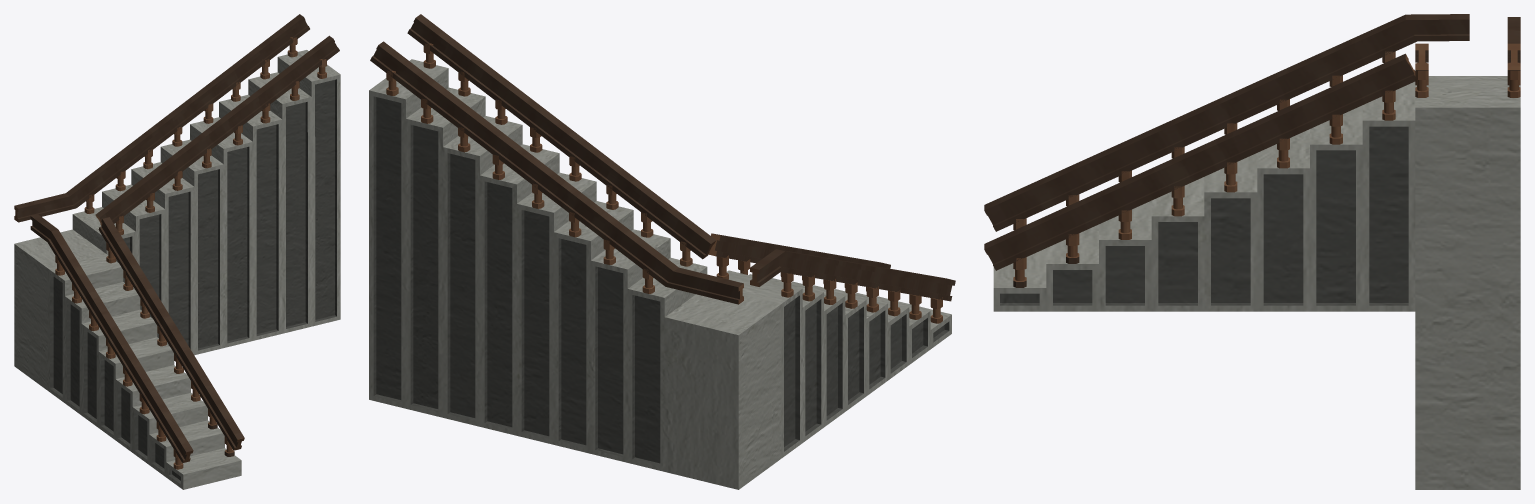
File: Stairs_UV.fbx
3 renders of one model, left to right at view 1: azimuth 30°, elevation 25°; view 2: azimuth 150°, elevation 25°; view 3: azimuth 270°, elevation 25°, orthographic. The views are drawn at different scales.
Visible parts, largest first — view 1: Stairs:polySurface7, Stairs:polySurface6, Stairs:pCube9, Stairs:pCube8, Stairs:pCube7, Stairs:pCube6; view 2: Stairs:polySurface7, Stairs:polySurface6, Stairs:pCube9, Stairs:pCube8, Stairs:pCube7, Stairs:pCube6; view 3: Stairs:polySurface6, Stairs:polySurface7, Stairs:pCube7, Stairs:pCube6, Stairs:pCube9.
Boxes of the visible parts, x1,y1,x2,y2 form: Stairs:polySurface7: (14, 50, 340, 390); Stairs:polySurface6: (48, 254, 241, 489); Stairs:pCube9: (14, 14, 309, 222); Stairs:pCube8: (95, 35, 339, 225); Stairs:pCube7: (30, 214, 193, 463); Stairs:pCube6: (98, 217, 244, 450); Stairs:polySurface7: (369, 59, 781, 489); Stairs:polySurface6: (726, 270, 951, 458); Stairs:pCube9: (370, 41, 743, 304); Stairs:pCube8: (407, 14, 716, 259); Stairs:pCube7: (750, 249, 955, 301); Stairs:pCube6: (708, 233, 890, 268); Stairs:polySurface6: (993, 81, 1415, 311); Stairs:polySurface7: (1415, 76, 1520, 489); Stairs:pCube7: (984, 14, 1469, 231); Stairs:pCube6: (984, 53, 1415, 270); Stairs:pCube9: (1507, 17, 1520, 70).
Bounding box in the file's own units: 20 × 18.45 × 20.36.
